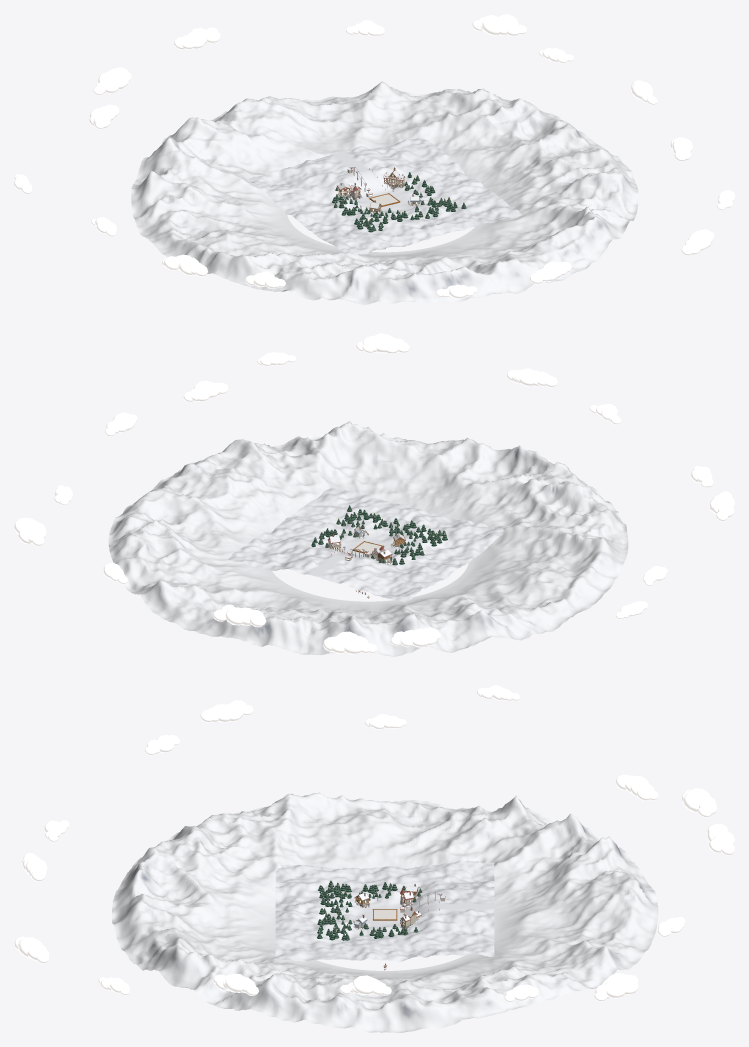
The model's file is kornyezet.glb.
The picture shows the model from 3 angles, top to bottom: view 1: azimuth 30°, elevation 25°; view 2: azimuth 150°, elevation 25°; view 3: azimuth 270°, elevation 25°; orthographic projection. The views are drawn at different scales.
Visible parts, largest first — view 1: Hegyvonulat, Talaj, Felho.02, Felho.04, Felho.05, Felho.09, Felho.12, Felho.13, Felho.06, Felho.10; view 2: Hegyvonulat, Talaj, Felho.05, Felho.04, Felho.13, Felho.06, Felho.12, Felho.02, Felho.15, Felho.09; view 3: Hegyvonulat, Talaj, Felho.02, Felho.09, Felho.05, Felho.06, Felho.00, Felho.15, Felho.04, Felho.13.
Boxes of the visible parts, x1=… form: Hegyvonulat: x1=131, y1=81, x2=638, y2=304; Talaj: x1=247, y1=137, x2=522, y2=254; Felho.02: x1=472, y1=14, x2=526, y2=36; Felho.04: x1=174, y1=27, x2=220, y2=49; Felho.05: x1=93, y1=67, x2=131, y2=95; Felho.09: x1=162, y1=254, x2=207, y2=276; Felho.12: x1=529, y1=261, x2=571, y2=284; Felho.13: x1=681, y1=229, x2=714, y2=255; Felho.06: x1=89, y1=104, x2=119, y2=129; Felho.10: x1=245, y1=271, x2=285, y2=288; Hegyvonulat: x1=108, y1=421, x2=628, y2=656; Talaj: x1=228, y1=487, x2=507, y2=602; Felho.05: x1=323, y1=631, x2=377, y2=654; Felho.04: x1=213, y1=605, x2=266, y2=627; Felho.13: x1=356, y1=333, x2=409, y2=353; Felho.06: x1=390, y1=627, x2=440, y2=647; Felho.12: x1=506, y1=368, x2=557, y2=387; Felho.02: x1=14, y1=517, x2=46, y2=546; Felho.15: x1=183, y1=380, x2=228, y2=402; Felho.09: x1=709, y1=491, x2=734, y2=521; Hegyvonulat: x1=111, y1=792, x2=658, y2=1032; Talaj: x1=275, y1=860, x2=494, y2=962; Felho.02: x1=594, y1=973, x2=638, y2=1001; Felho.09: x1=200, y1=700, x2=253, y2=722; Felho.05: x1=681, y1=788, x2=717, y2=817; Felho.06: x1=615, y1=774, x2=658, y2=800; Felho.00: x1=339, y1=975, x2=391, y2=995; Felho.15: x1=213, y1=973, x2=258, y2=995; Felho.04: x1=707, y1=823, x2=734, y2=855; Felho.13: x1=14, y1=936, x2=49, y2=963.
Bounding box in the file's own units: 394 × 73.4 × 396.
70 materials, 1 textured.
